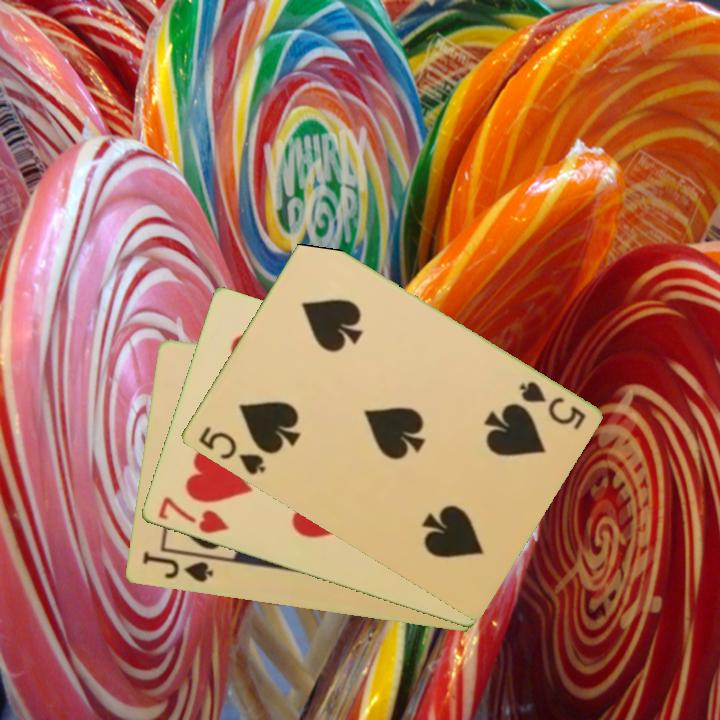5s: (194, 422, 269, 479), (515, 377, 588, 433)
7h: (154, 493, 233, 537)
Js: (138, 547, 216, 585)
